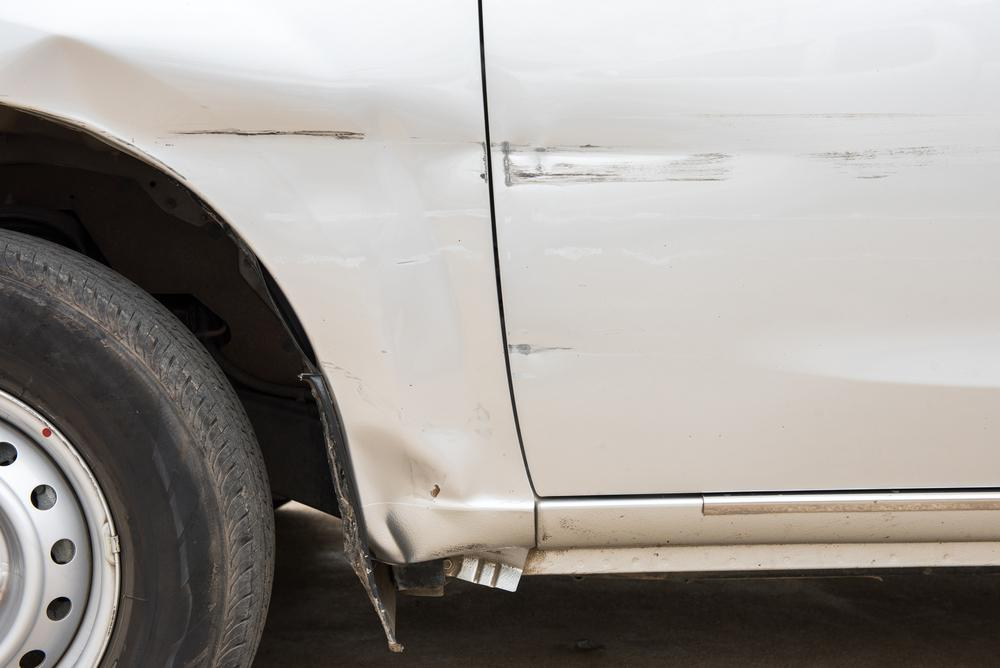dent: (0, 35, 517, 562)
scratch: (498, 107, 957, 192)
